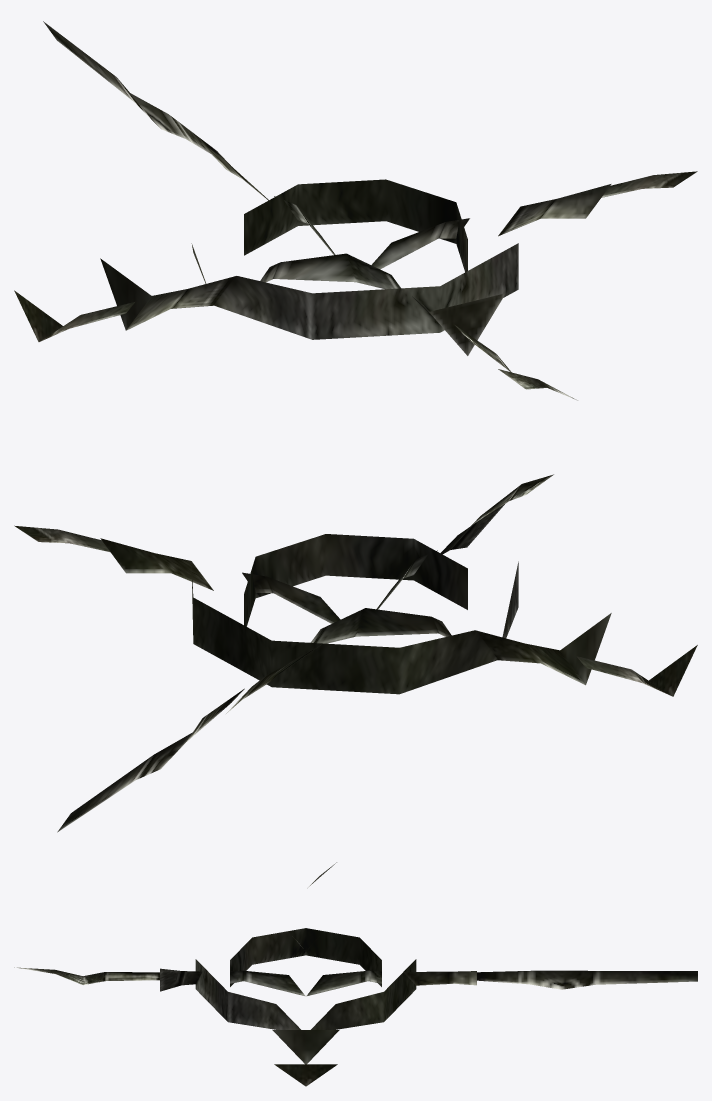
The picture shows the model from 3 angles, top to bottom: view 1: azimuth 30°, elevation 25°; view 2: azimuth 150°, elevation 25°; view 3: azimuth 270°, elevation 25°; orthographic projection. The views are drawn at different scales.
Visible parts, largest first — view 1: model_Object89; view 2: model_Object89; view 3: model_Object89.
Boxes of the visible parts, <box> form: model_Object89: <box>14,21,697,400</box>; model_Object89: <box>14,474,697,832</box>; model_Object89: <box>14,862,697,1086</box>.
Size of the model in its own units: 1.74 by 0.1602 by 2.47.
1 material, 1 textured.
